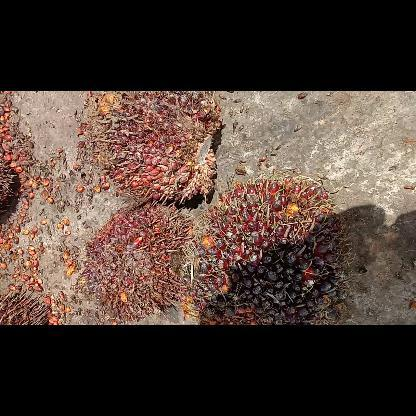Kurang masak: (85, 91, 223, 203)
TBS masak: (183, 170, 354, 324), (82, 202, 194, 320)
